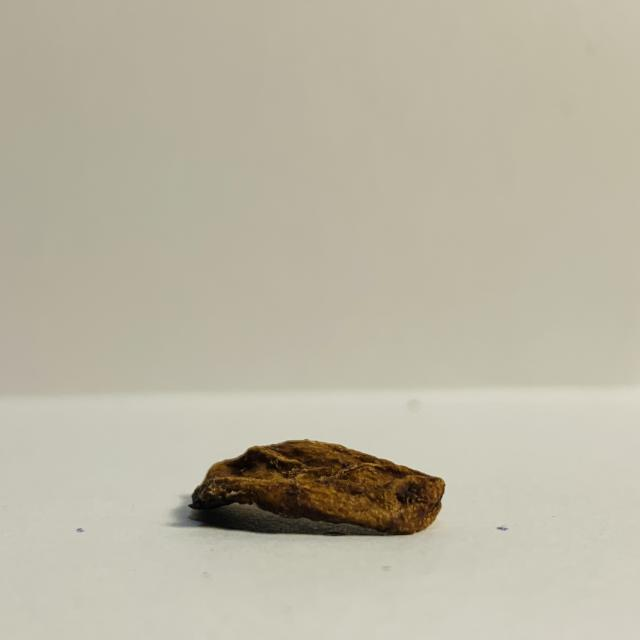Flat_cocoabeans: (101, 400, 508, 568)
